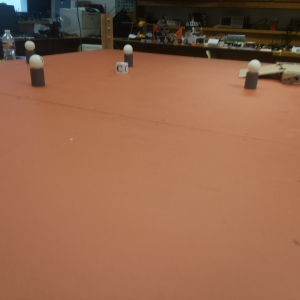obstacle: (243, 60, 258, 88), (30, 56, 43, 87), (24, 41, 34, 63), (124, 45, 133, 67)
slope: (239, 62, 282, 84)
